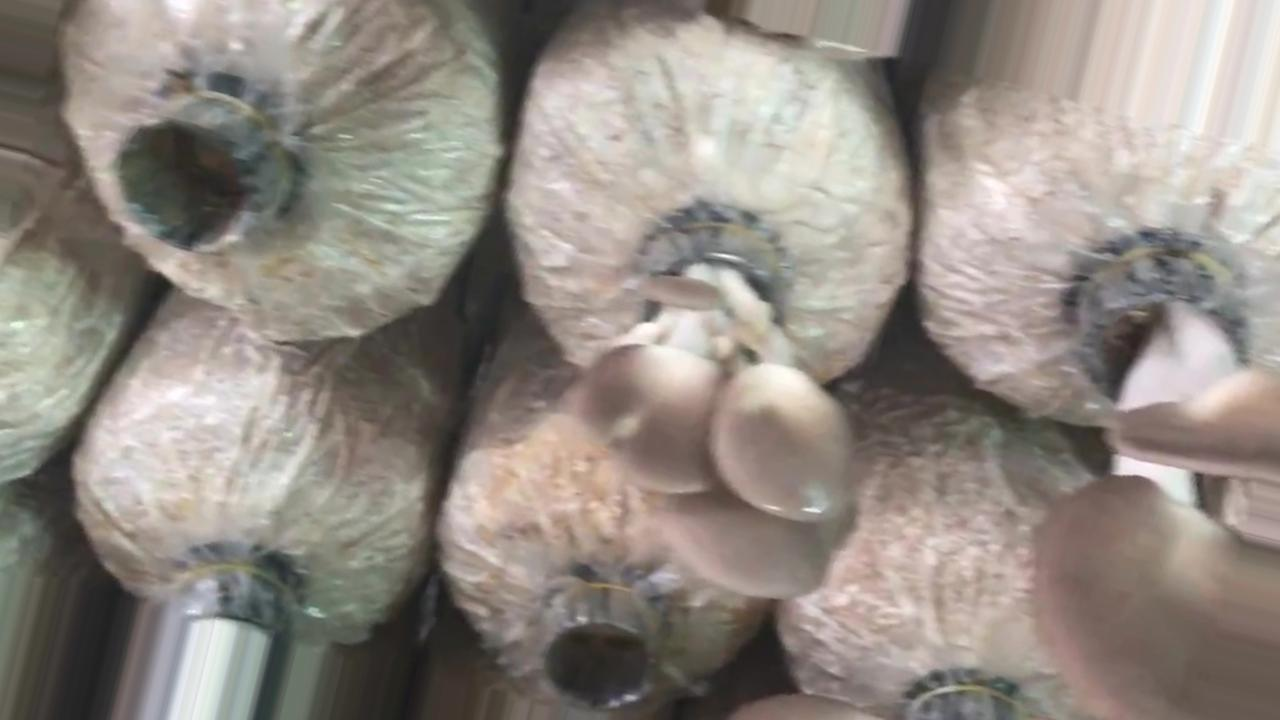nam: (1030, 262, 1280, 719), (578, 217, 863, 603)
